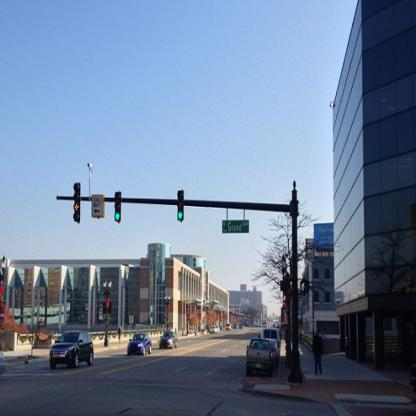green: (114, 191, 122, 222), (177, 190, 185, 221)
left-red: (74, 184, 81, 224)
